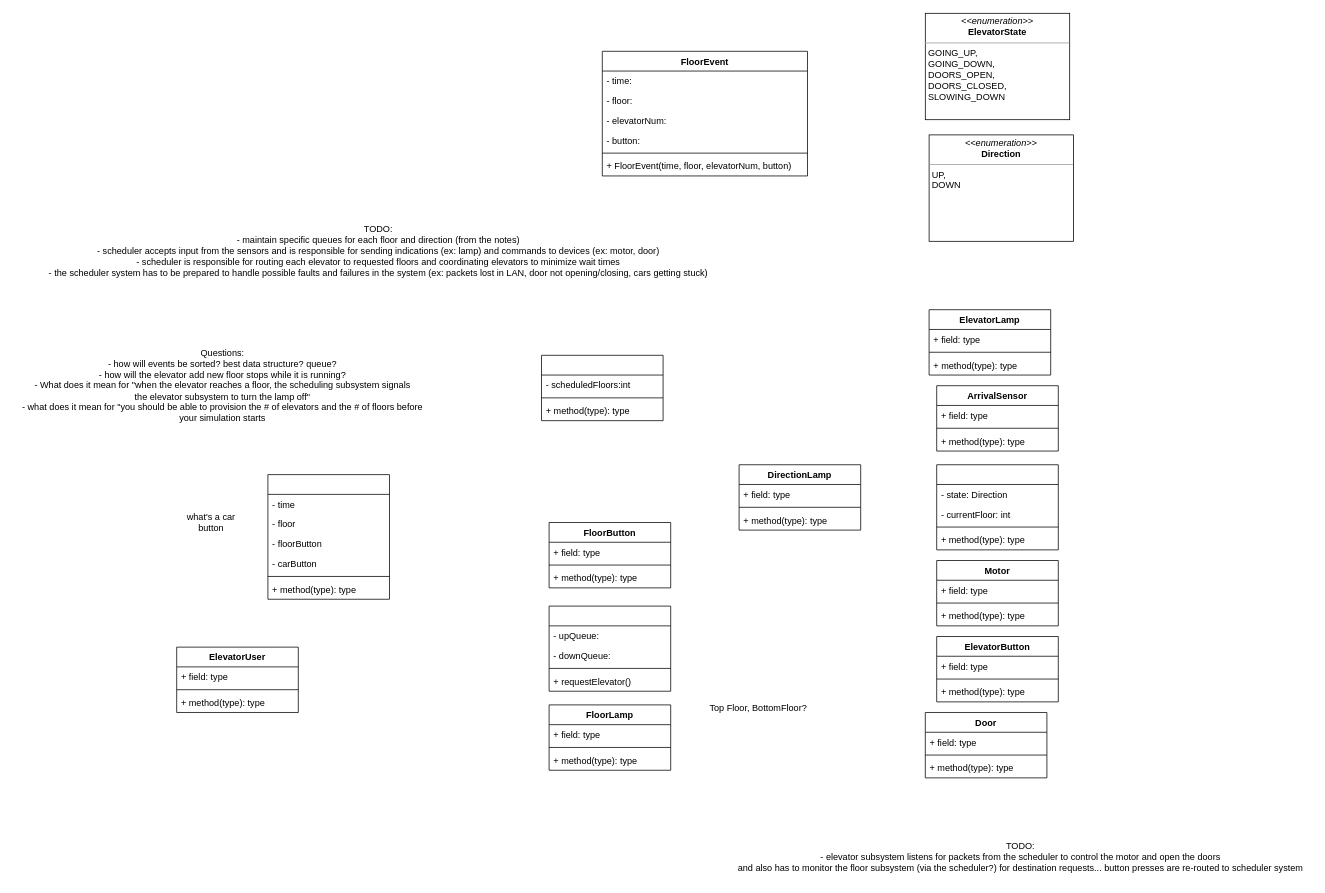
Some shapes in this 1325 by 893 pixel diagram are drawn without their labels. The shapes that lost their labels are listed below. From the top down, each one's box as (x1, y1, x2, y2) in pixels, then its label:
(541, 355, 663, 421): Scheduler
(936, 464, 1058, 550): Elevator
(267, 474, 390, 599): ElevatorRequest
(548, 605, 671, 691): Floor
